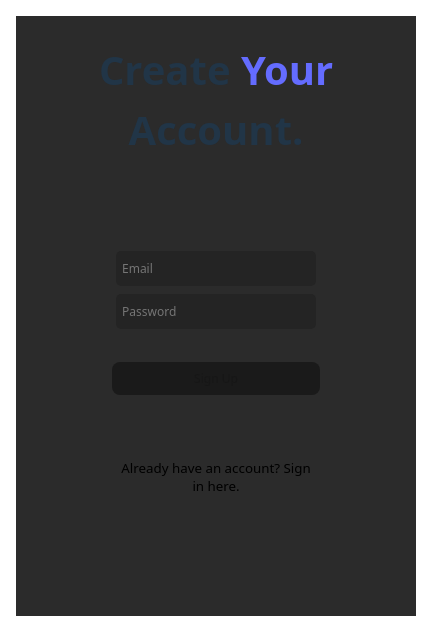
Scenario: Error message rendering › diplay password error when email is valid and pass is empty
Type "test@gmail.com" into the field with test id "email-input" at coordinates (216, 268), box [116,251,316,286]
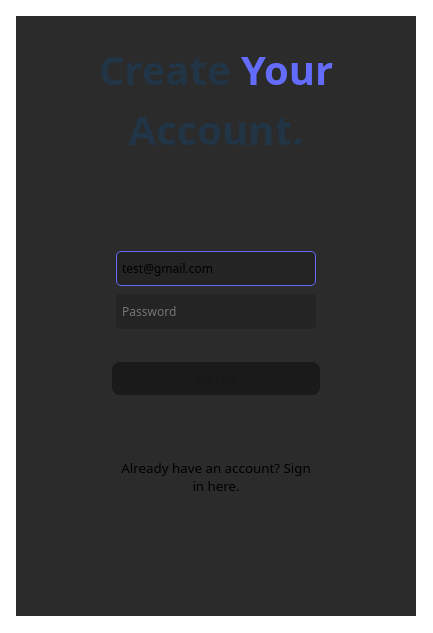
Click the password field with test id "password-input" at coordinates (216, 312), box [116,294,316,329]
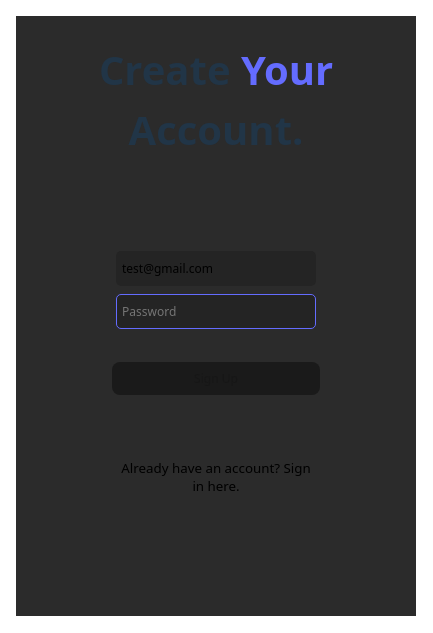
Press Tab
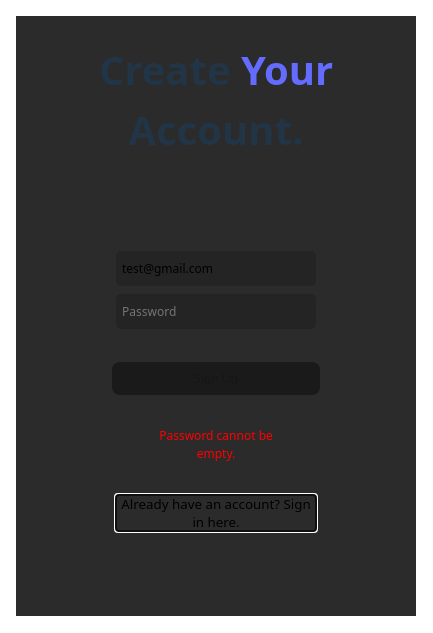
Expected: the text with test id "error-message" reads "Password cannot be empty.", [159,427,273,462]
